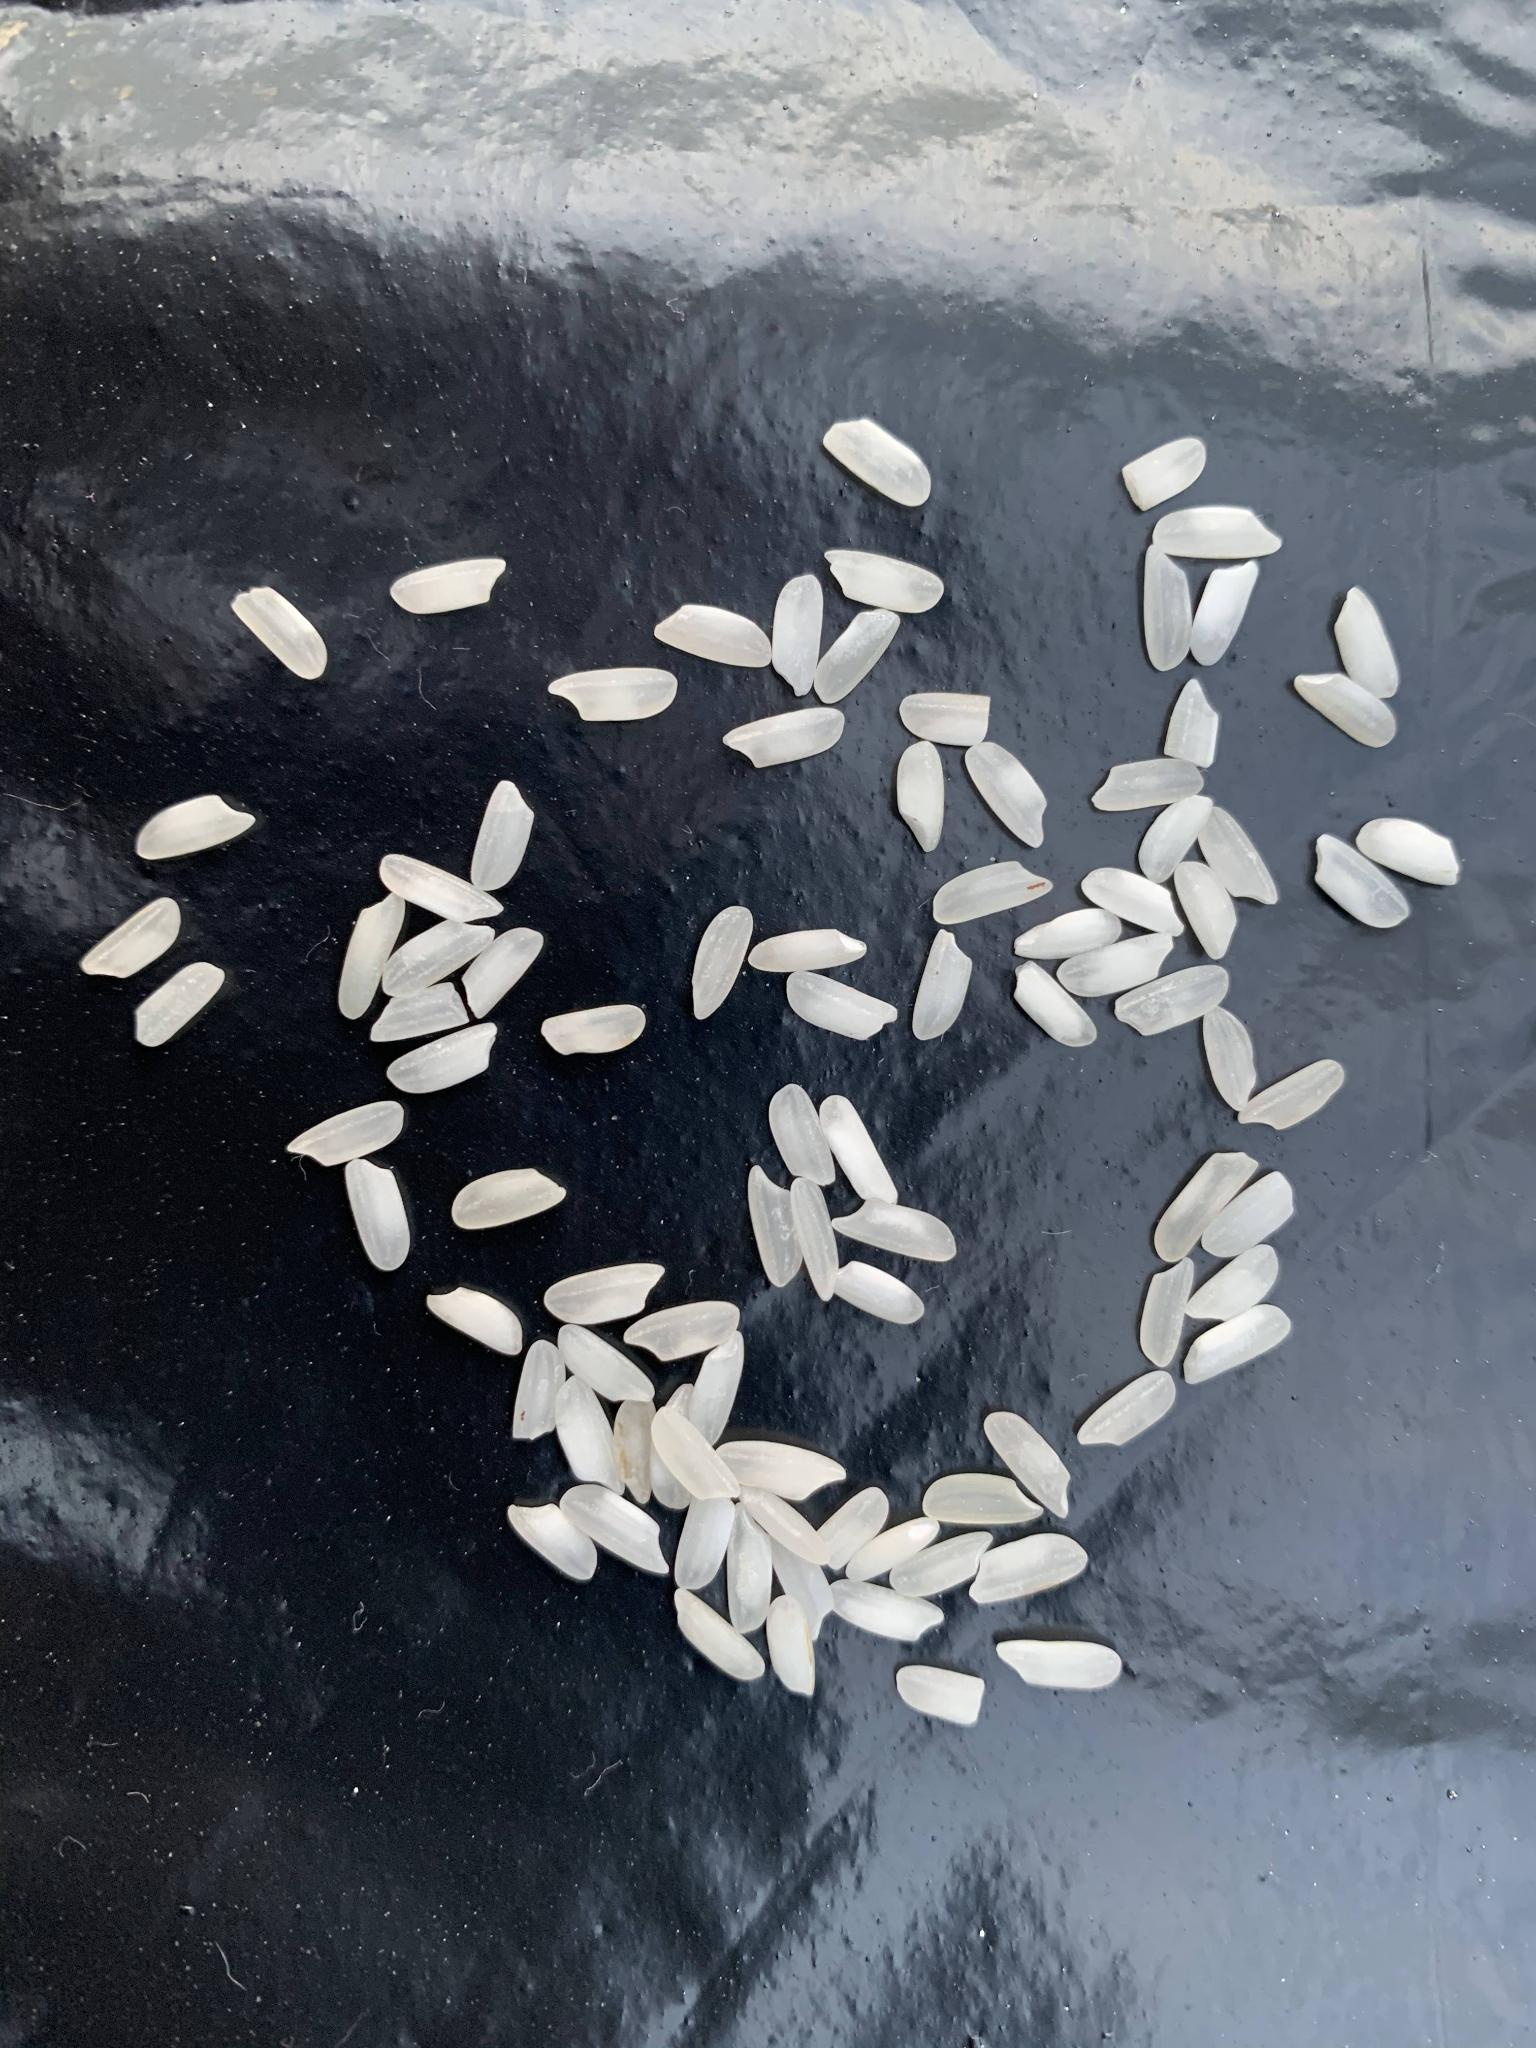rice: (1152, 1151, 1258, 1263), (560, 1485, 671, 1576), (821, 418, 929, 508), (820, 1093, 904, 1206), (984, 1411, 1070, 1519), (965, 743, 1049, 850), (231, 587, 328, 679), (77, 898, 184, 980), (1315, 835, 1409, 929), (337, 893, 407, 1019), (1184, 1303, 1292, 1384), (381, 921, 495, 997), (968, 1535, 1089, 1606), (134, 793, 257, 863), (386, 1021, 502, 1093), (650, 1406, 741, 1498), (381, 855, 503, 922), (813, 610, 900, 705), (555, 1376, 624, 1495), (676, 1588, 765, 1680), (1115, 966, 1229, 1037), (286, 1100, 405, 1168), (132, 959, 224, 1047), (1200, 1171, 1292, 1258), (824, 548, 945, 614), (558, 1322, 655, 1405), (452, 1164, 566, 1234), (715, 1440, 847, 1500), (1075, 1371, 1176, 1448), (831, 1200, 955, 1263), (933, 861, 1054, 926), (1199, 808, 1279, 905), (787, 971, 899, 1040), (470, 779, 537, 892), (344, 1159, 411, 1272), (653, 605, 771, 669), (544, 1263, 666, 1324), (723, 708, 845, 769), (1292, 674, 1396, 747), (1239, 1059, 1344, 1130), (828, 1580, 945, 1643), (1083, 866, 1184, 939), (1184, 1243, 1279, 1321), (1058, 934, 1171, 998), (463, 927, 544, 1018), (623, 1301, 741, 1363), (1013, 961, 1097, 1047), (1191, 563, 1258, 668), (1333, 589, 1397, 698), (770, 1535, 836, 1642), (547, 668, 679, 721), (741, 1487, 831, 1564), (1355, 819, 1459, 885), (426, 1285, 524, 1355), (1152, 508, 1283, 560), (694, 906, 753, 1019), (508, 1505, 597, 1580), (747, 1166, 802, 1288), (891, 1530, 992, 1596), (770, 1084, 836, 1185), (390, 558, 508, 614), (771, 574, 824, 698), (1137, 797, 1213, 884), (691, 1330, 747, 1447), (1136, 1255, 1194, 1367), (913, 930, 971, 1042), (1173, 861, 1238, 959), (815, 1485, 887, 1572), (1121, 439, 1205, 511), (921, 1472, 1042, 1522), (791, 1177, 839, 1301), (847, 1517, 937, 1584), (1144, 545, 1191, 672), (368, 984, 470, 1042), (1091, 760, 1204, 811), (999, 1642, 1123, 1688), (674, 1495, 736, 1588), (541, 1003, 647, 1056), (729, 1501, 771, 1635), (836, 1261, 925, 1324), (1013, 910, 1121, 961), (1204, 1006, 1255, 1113), (511, 1340, 566, 1438), (895, 1666, 984, 1725), (897, 742, 944, 855), (749, 929, 870, 972), (1163, 679, 1220, 768), (768, 1596, 816, 1700), (900, 693, 992, 747), (615, 1392, 657, 1505)
